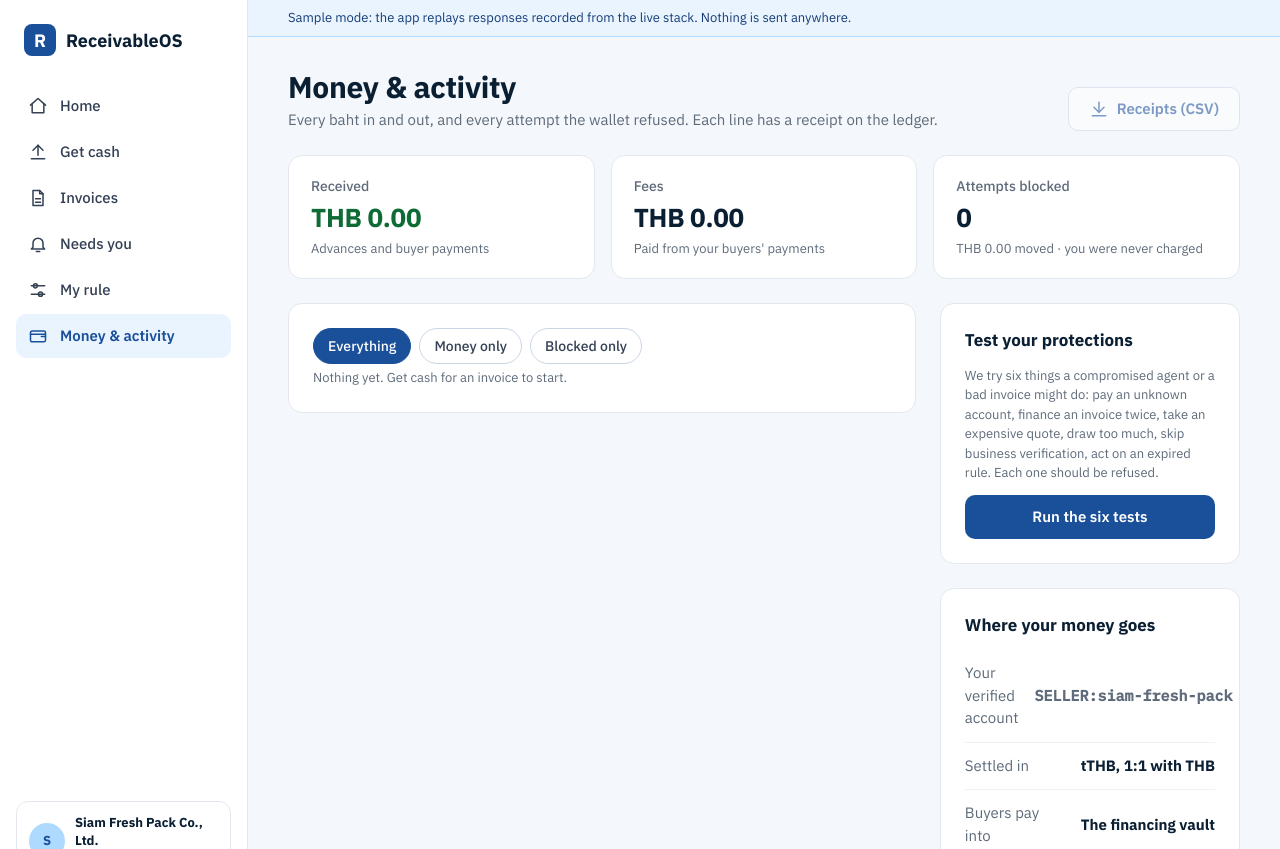
it: the SME owner's app (sample mode) › runs the six protection tests and reports every one blocked
What coordinates should you click on to do the following:
click the button "Run the six tests"
I would click on:
 (1090, 517)
Its box is [965,495,1215,539].
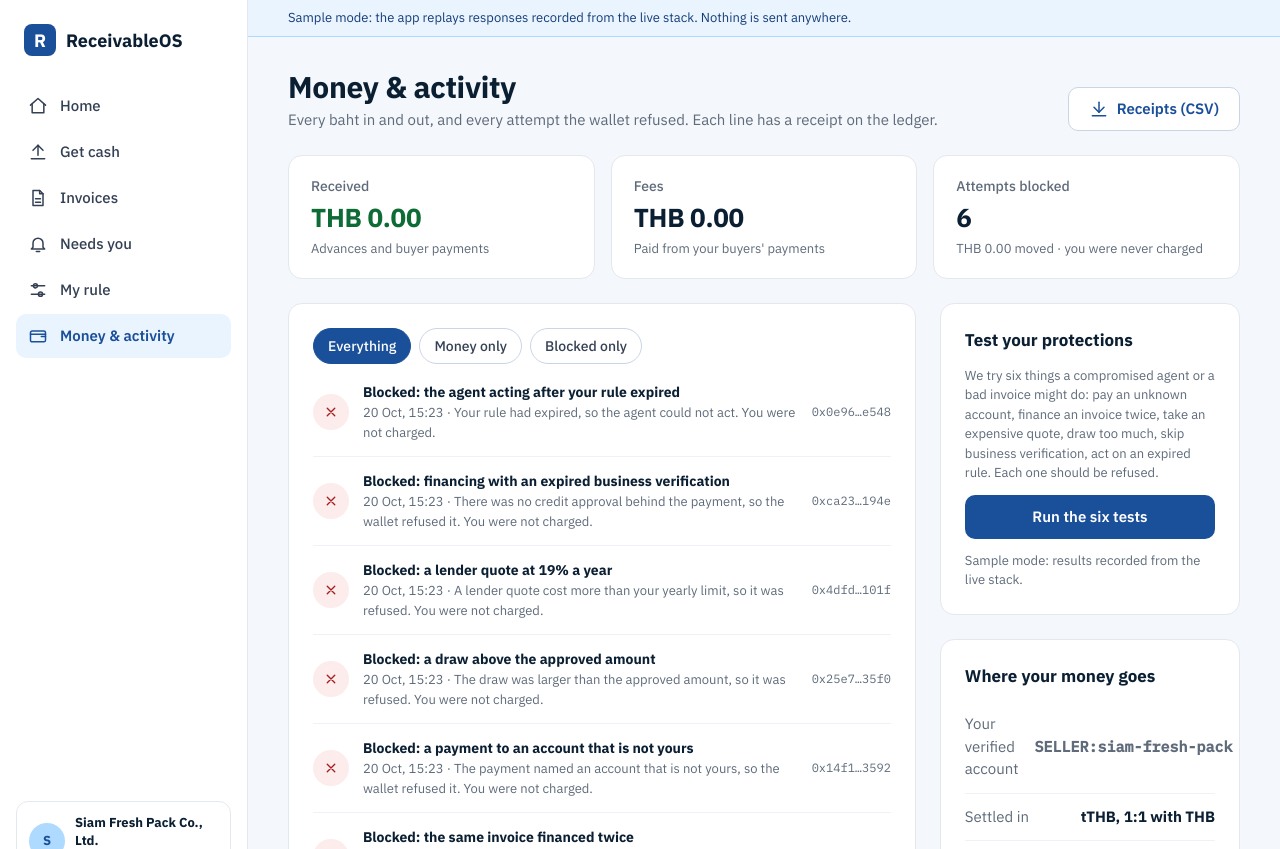
Check: the text "Blocked: the agent acting after your rule expired" is shown 6 times, box [363,383,680,401]; [363,472,730,490]; [363,561,612,579]; [363,650,656,668]; [363,739,694,757]; [363,828,634,846]
Check: the text "6" is shown, box [956,200,972,234]
